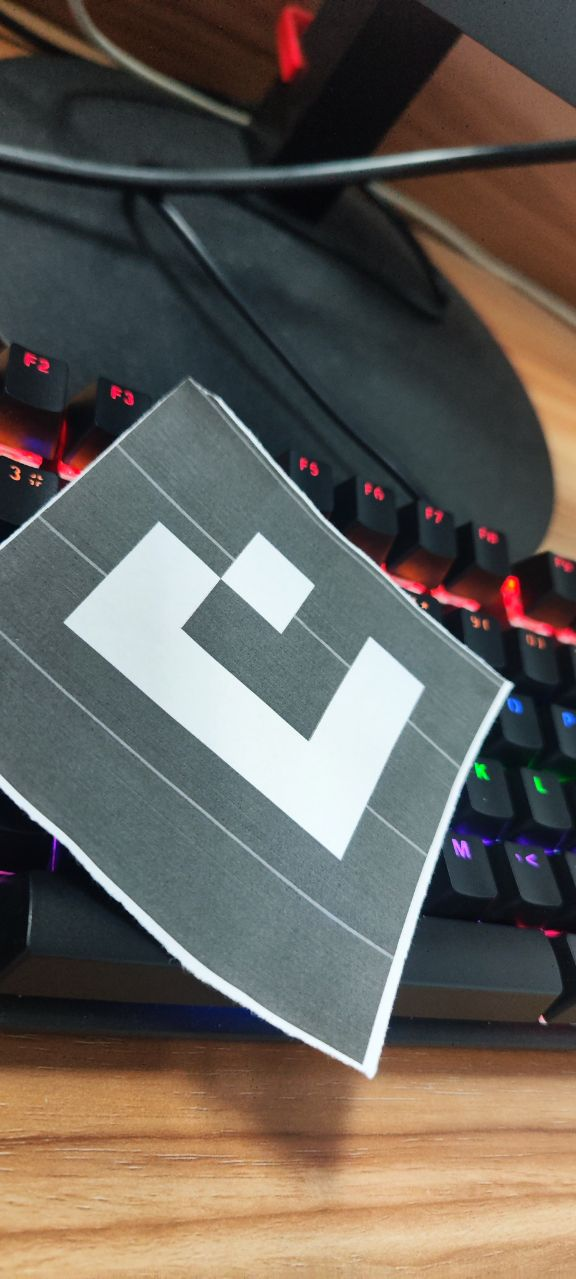mark1: (66, 520, 429, 874)
